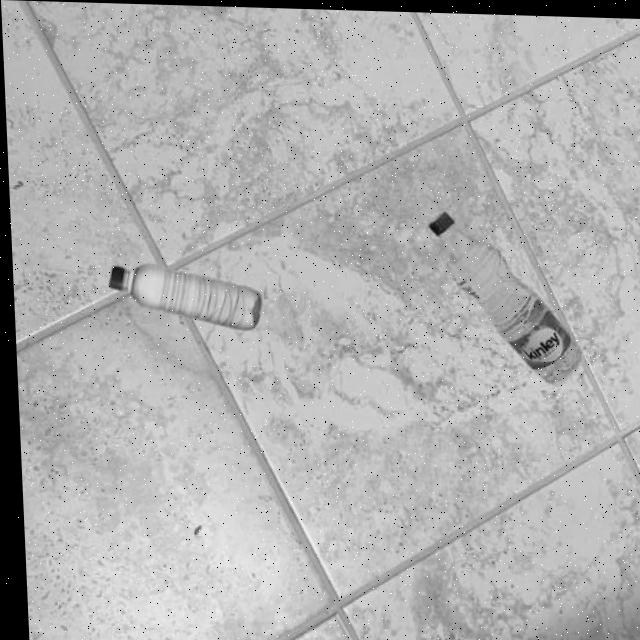bottle: (424, 207, 583, 382), (105, 260, 261, 329)
